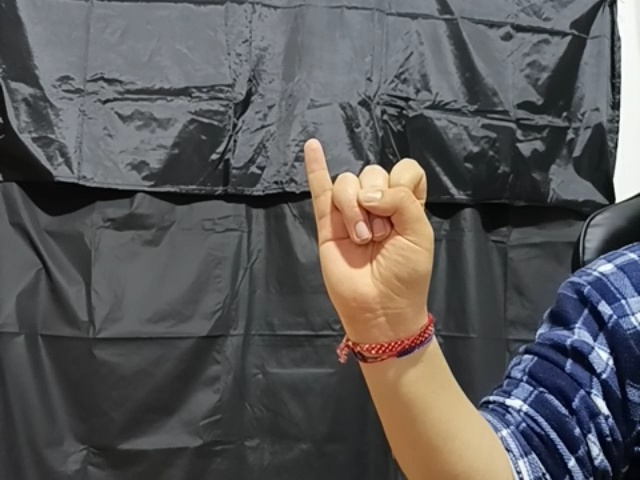I: (305, 145, 447, 343)
